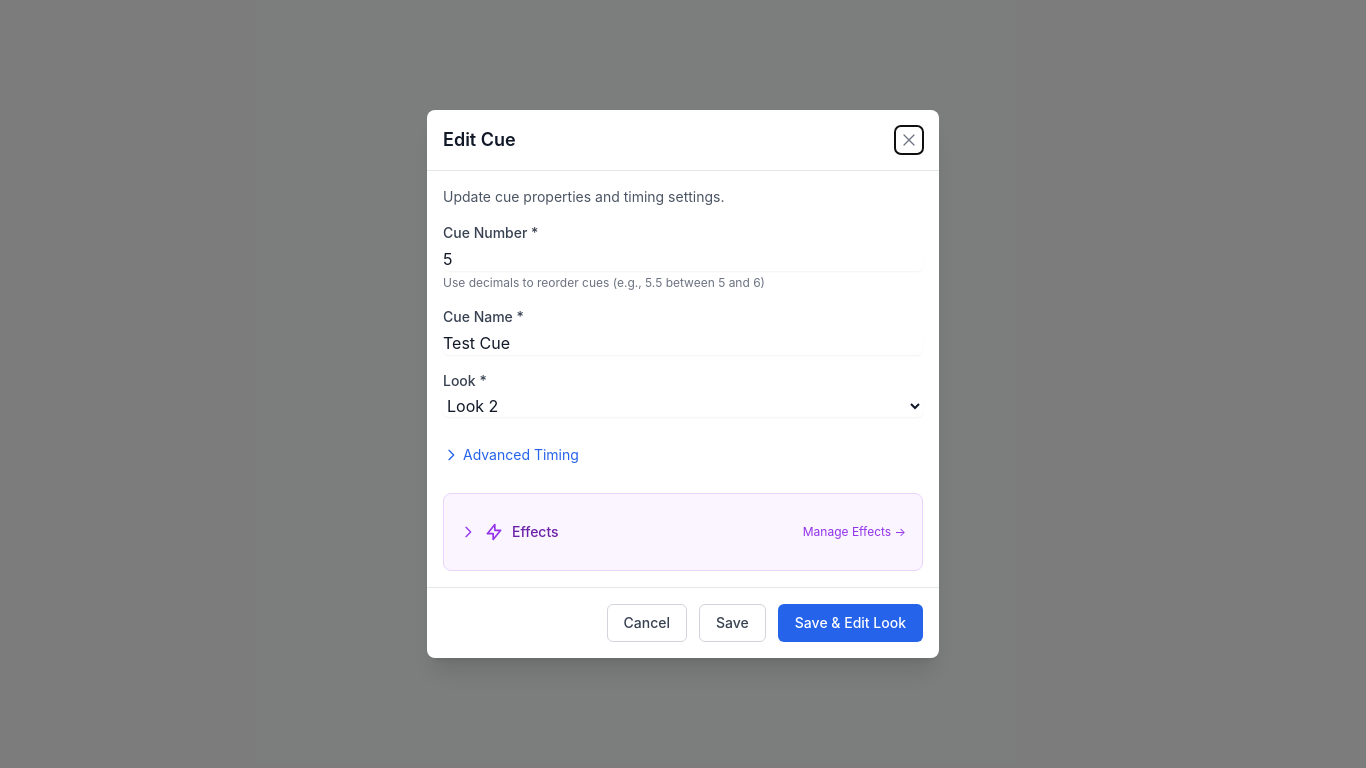
it: EditCueDialog › Pre-populated Values › pre-populates follow time when present
This screenshot has width=1366, height=768.
Note: Show advanced timing
Click the button "Advanced Timing" at coordinates (511, 455), box [443,433,579,477]
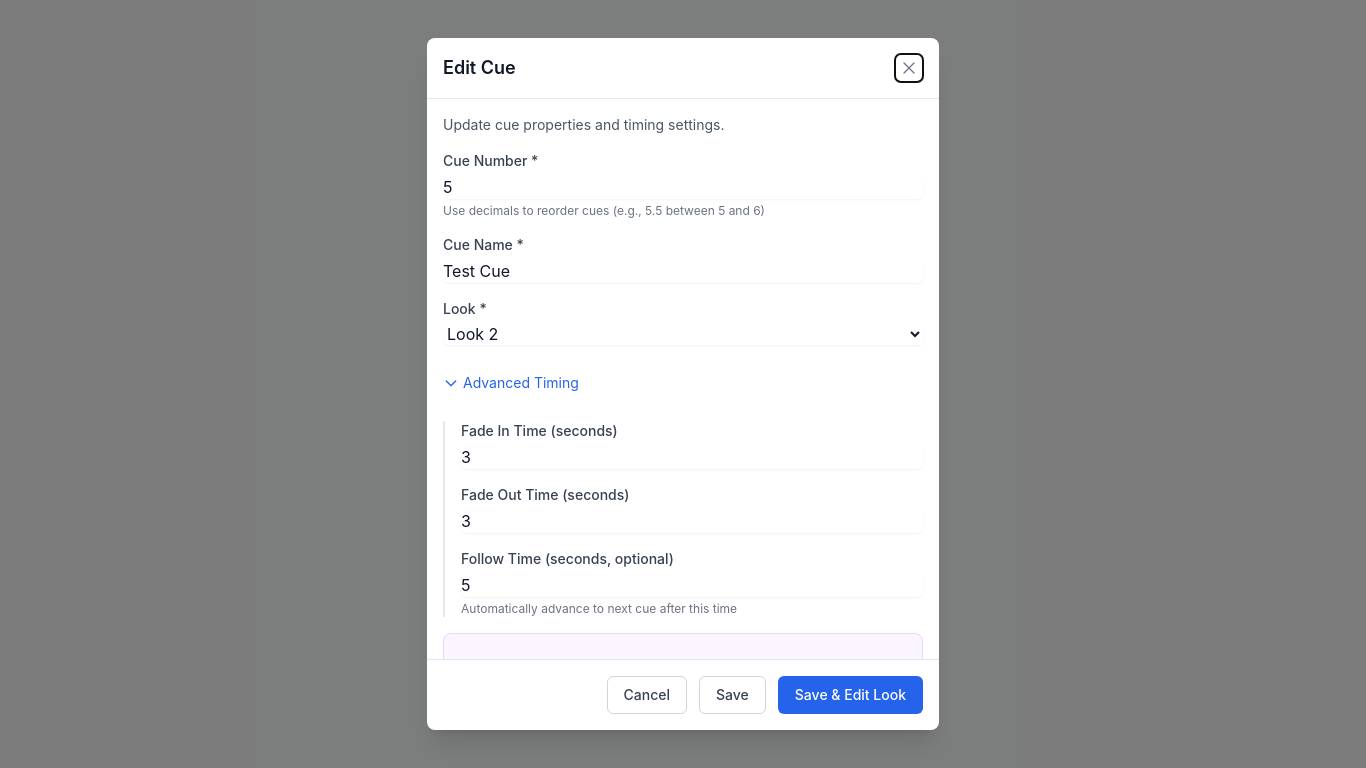
Result: the field labelled "Follow Time (seconds, optional)" holds "5" at [461,573,923,597]
